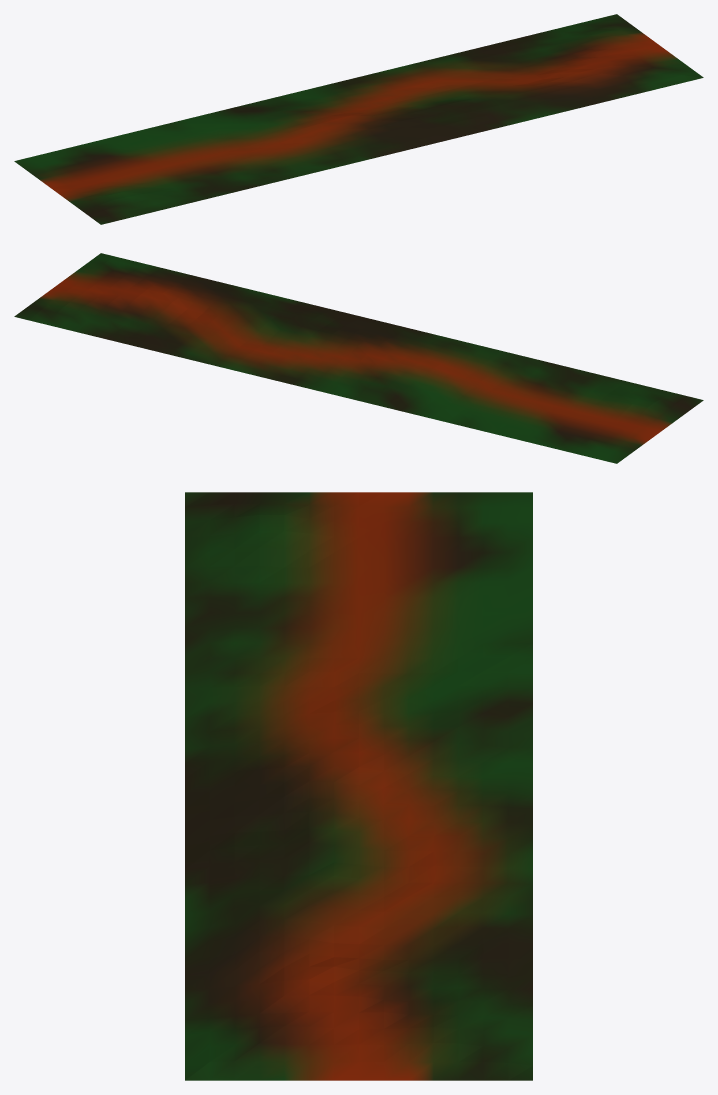
The model's file is floor.obj.
3 renders of one model, top to bottom at view 1: azimuth 30°, elevation 25°; view 2: azimuth 150°, elevation 25°; view 3: azimuth 270°, elevation 25°, orthographic. The views are drawn at different scales.
Parts seen in each view (by area): view 1: floor; view 2: floor; view 3: floor.
Boxes of the visible parts, <box> form: floor: <box>14,14,703,224</box>; floor: <box>14,253,703,463</box>; floor: <box>185,492,532,1080</box>.
Bounding box in the file's own units: 2 × 0.02 × 0.5.
